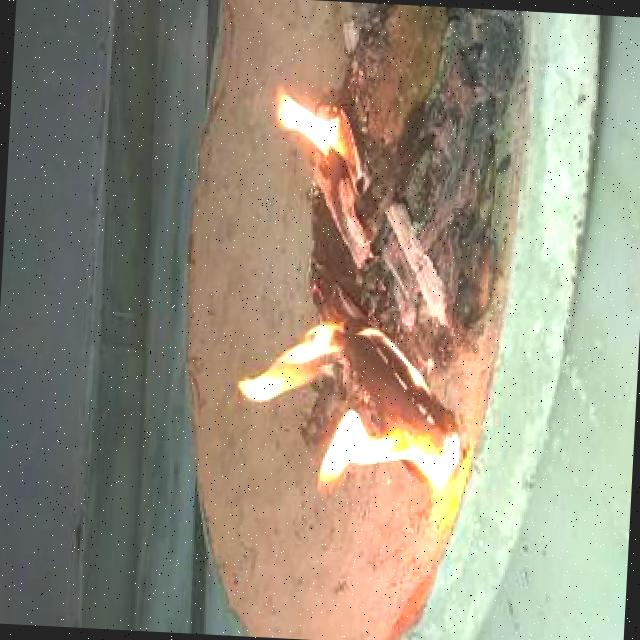fire: (235, 313, 468, 499), (266, 75, 354, 163)
